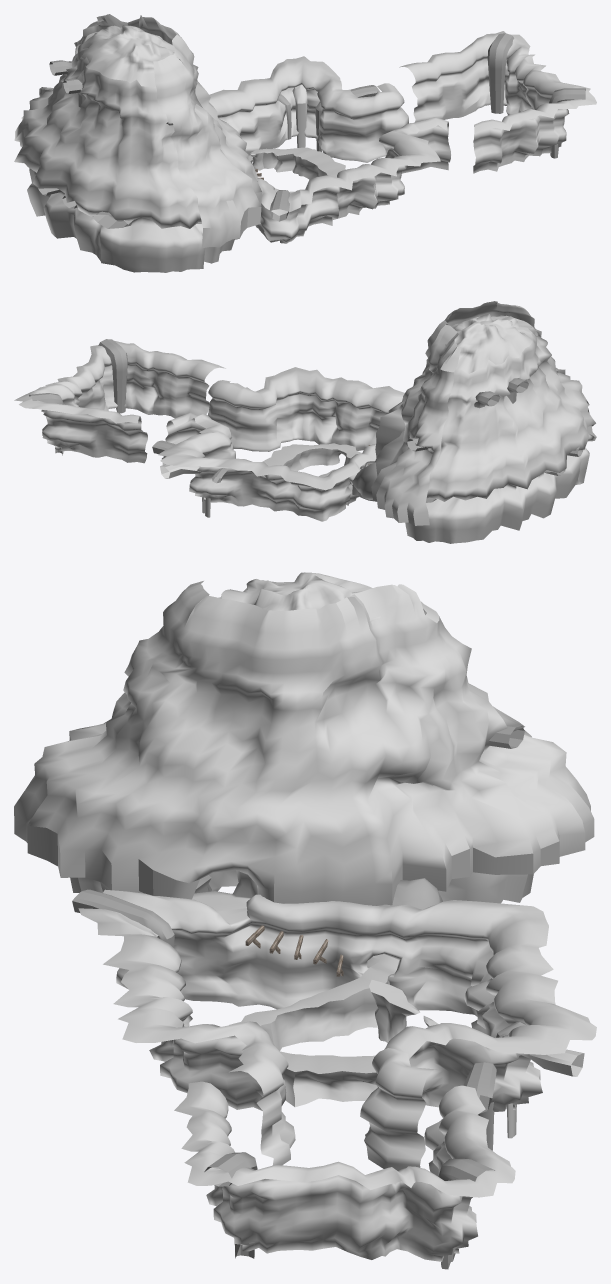
Rendered from test_stage.fbx.
The picture shows the model from 3 angles, top to bottom: view 1: azimuth 30°, elevation 25°; view 2: azimuth 150°, elevation 25°; view 3: azimuth 270°, elevation 25°; orthographic projection. The views are drawn at different scales.
Parts seen in each view (by area): view 1: pCube31, pCylinder42, pCylinder19, pCylinder41, pCylinder20, pCylinder18, pCylinder25; view 2: pCube31, pCylinder41, pCylinder19, pCylinder30, pCylinder29; view 3: pCube31, pCylinder20, pCylinder19, pCylinder18, pCylinder42, pCylinder41.
Part boxes in pixels (left/top/right/bottom): pCube31: left=14, top=14, right=596, bottom=272; pCylinder42: left=487, top=33, right=514, bottom=113; pCylinder19: left=292, top=85, right=307, bottom=147; pCylinder41: left=549, top=88, right=585, bottom=158; pCylinder20: left=269, top=190, right=290, bottom=243; pCylinder18: left=315, top=85, right=379, bottom=151; pCylinder25: left=92, top=211, right=134, bottom=228; pCube31: left=14, top=301, right=595, bottom=543; pCylinder41: left=98, top=339, right=127, bottom=413; pCylinder19: left=160, top=464, right=210, bottom=517; pCylinder30: left=474, top=391, right=500, bottom=408; pCylinder29: left=507, top=378, right=528, bottom=403; pCube31: left=14, top=572, right=596, bottom=1261; pCylinder20: left=72, top=889, right=174, bottom=947; pCylinder19: left=507, top=1049, right=584, bottom=1138; pCylinder18: left=463, top=1062, right=496, bottom=1150; pCylinder42: left=438, top=1158, right=494, bottom=1269; pCylinder41: left=204, top=1152, right=257, bottom=1258.
Bounding box in the file's own units: 3655 × 1464 × 2059.
